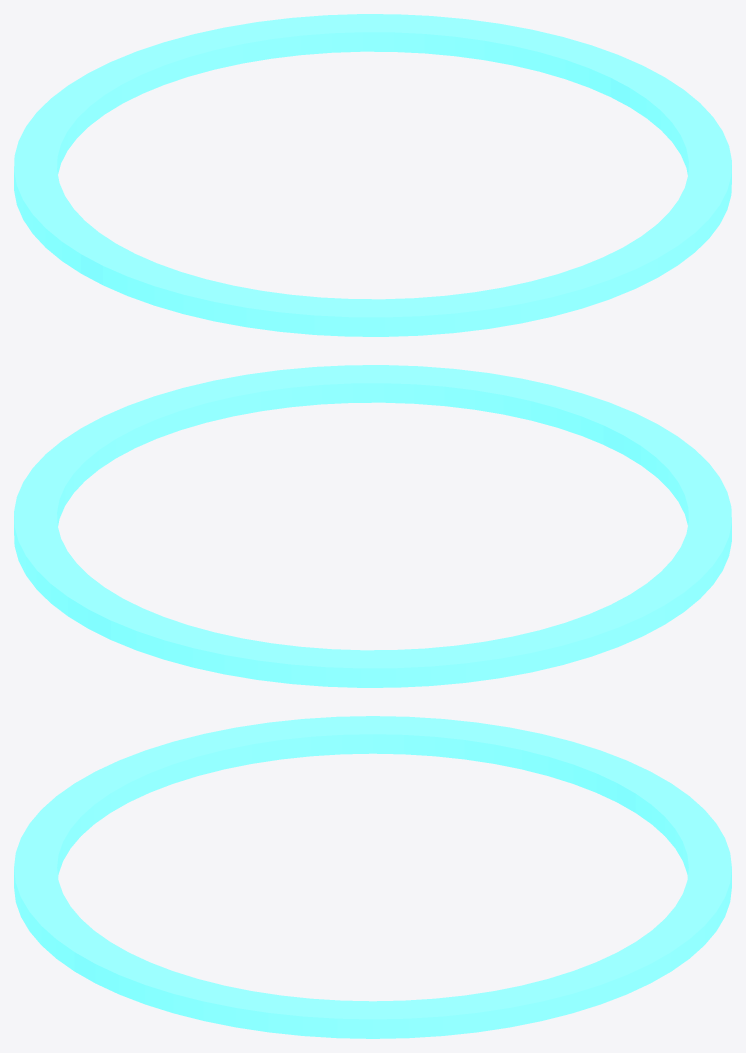
3 views of the same model, one above another, from view 1: azimuth 30°, elevation 25°; view 2: azimuth 150°, elevation 25°; view 3: azimuth 270°, elevation 25° (orthographic).
Parts seen in each view (by area): view 1: geometry_0; view 2: geometry_0; view 3: geometry_0.
Part boxes in pixels (x1,y1,x2,y2): geometry_0: (14, 14, 731, 336); geometry_0: (14, 365, 731, 687); geometry_0: (14, 716, 731, 1038).
Size of the model in its own units: 2 by 0.06 by 2.
